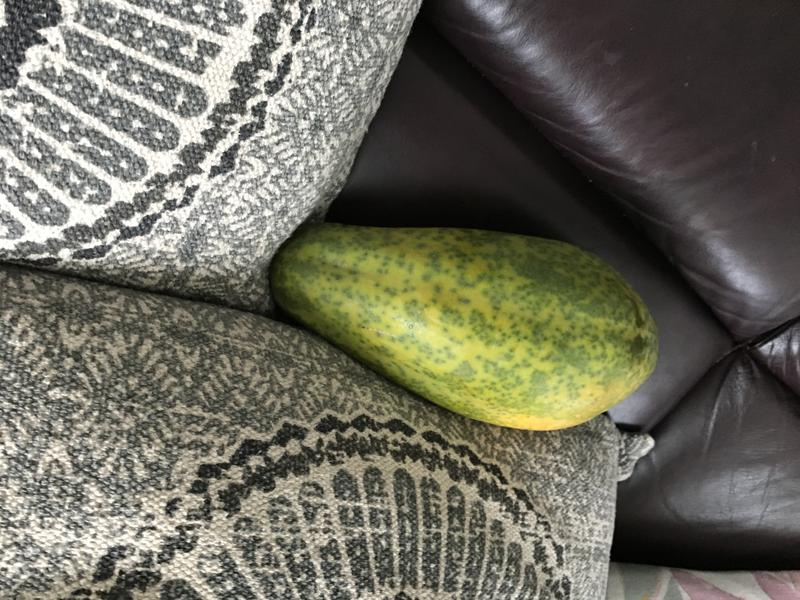papaya: (248, 215, 663, 436)
